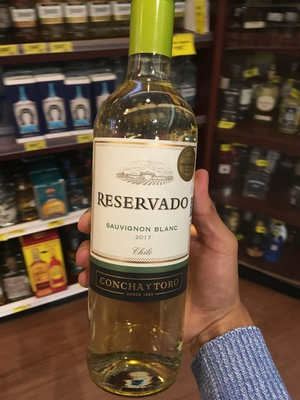reservado sauvignon blanc: (81, 18, 208, 375)
